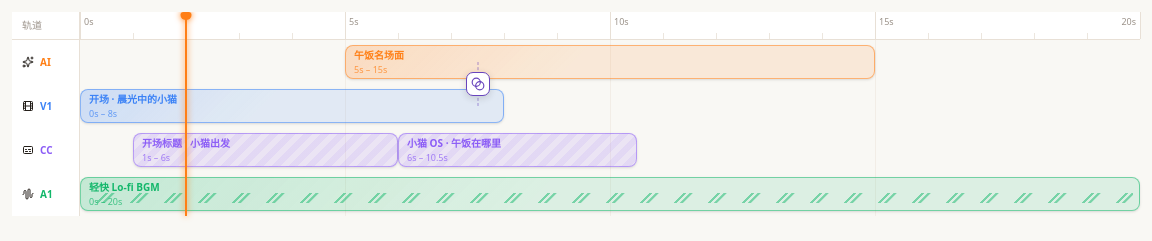
Scenario: TimelineTracks direct manipulation › starts a range selection with shift+drag even on top of blocks
Press the mouse on the button "开场 · 晨光中的小猫 0s – 8s" at [133, 99], box x1=80 y1=89 x2=504 y2=123
Press the mouse on the element that starts with "午饭名场面" at [576, 118], box x1=0 y1=12 x2=1151 y2=224
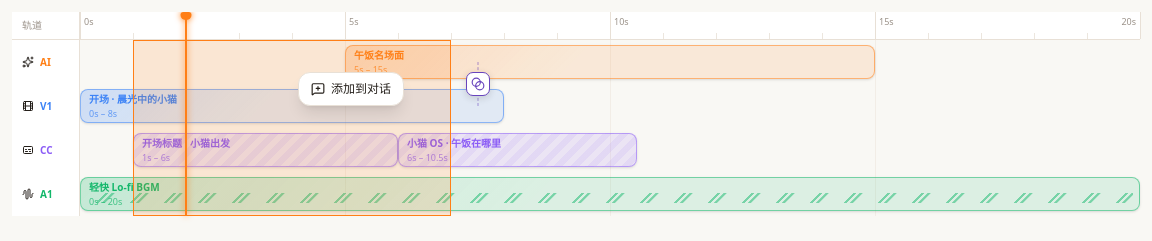
Now the element showing "添加到对话" is shown, box x1=298 y1=72 x2=404 y2=106
